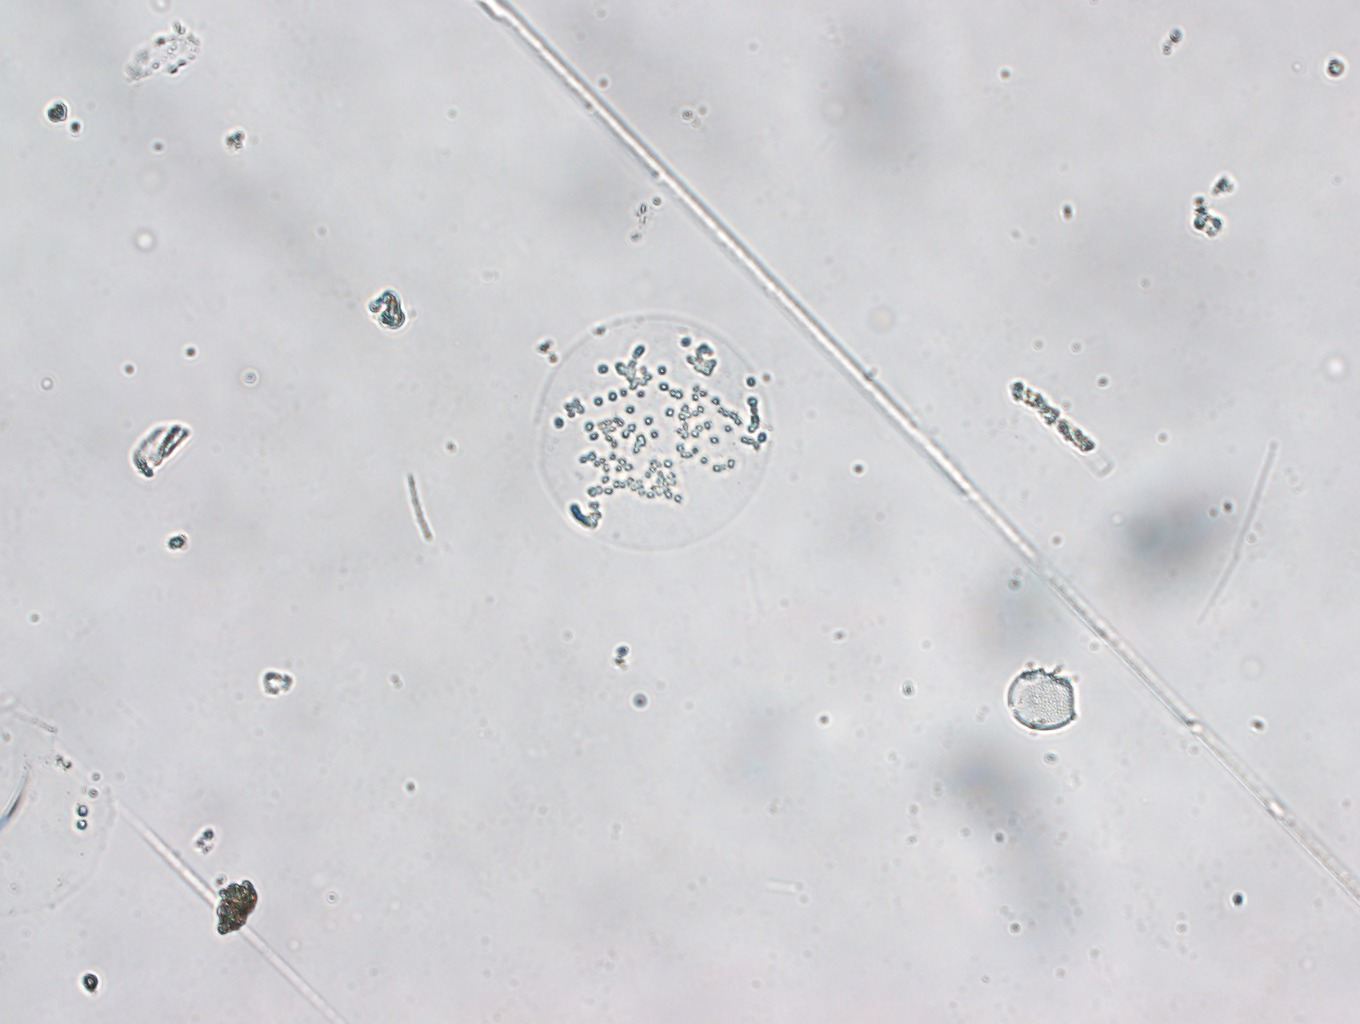coscinodiscus: (534, 313, 776, 552)
